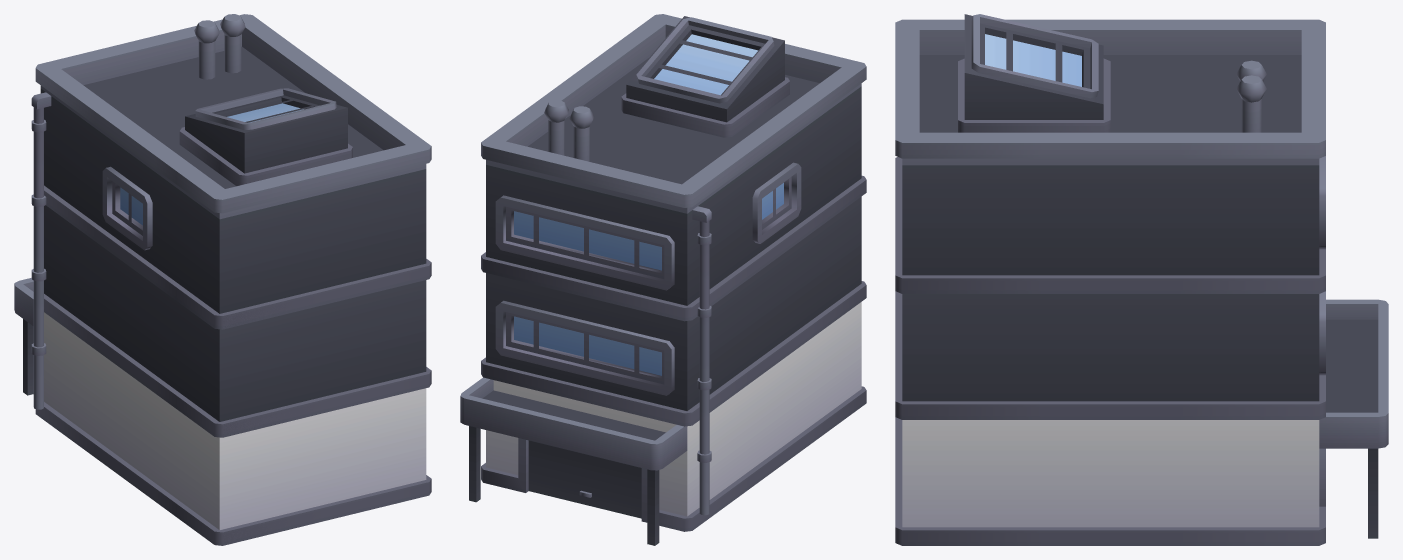
File: building-d.glb
3 views of the same model, side by side, from view 1: azimuth 30°, elevation 25°; view 2: azimuth 150°, elevation 25°; view 3: azimuth 270°, elevation 25° (orthographic). The views are drawn at different scales.
Visible parts, largest first — view 1: building-d; view 2: building-d; view 3: building-d.
Boxes of the visible parts, box(x1,y1,x2,y2) form: building-d: box(14, 14, 431, 545); building-d: box(460, 14, 866, 545); building-d: box(895, 14, 1388, 545).
Size of the model in its own units: 0.8836 by 1.41 by 1.42.
1 material, 1 textured.
